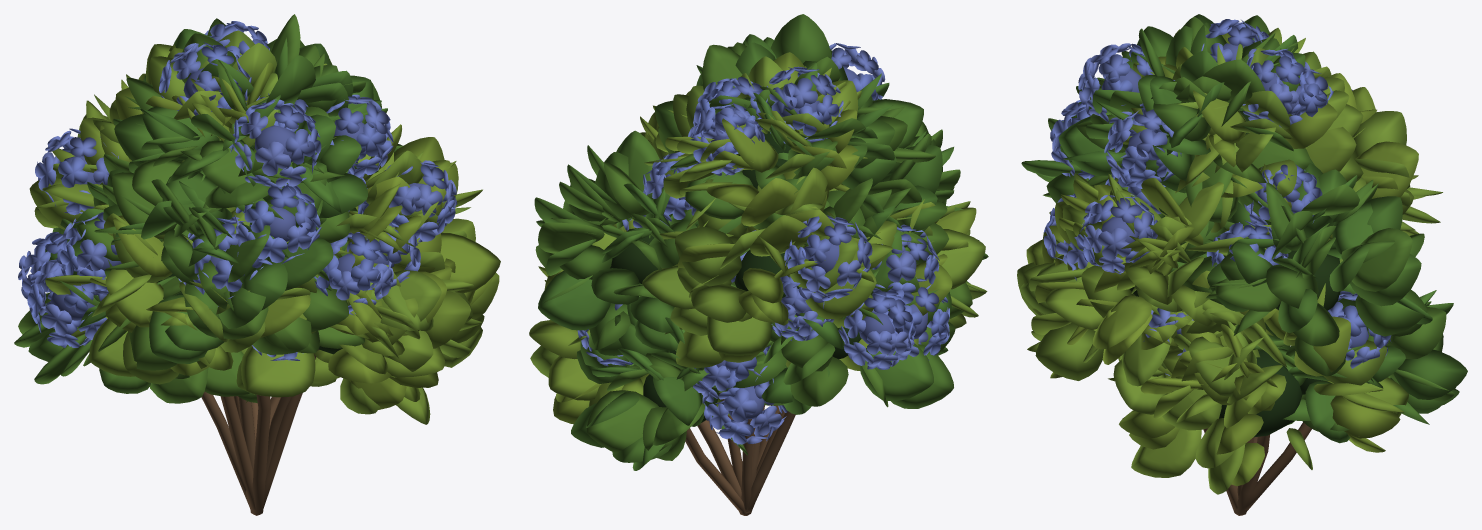
The model's file is hedge_hydrangea.glb.
3 renders of one model, left to right at view 1: azimuth 30°, elevation 25°; view 2: azimuth 150°, elevation 25°; view 3: azimuth 270°, elevation 25°, orthographic. The views are drawn at different scales.
Visible parts, largest first — view 1: Sammel Pflanze, Sammel Holz; view 2: Sammel Pflanze, Sammel Holz, Sammel Blatt; view 3: Sammel Pflanze, Sammel Blatt, Sammel Holz.
Part boxes in pixels (box(x1,y1,x2,y2)): Sammel Pflanze: box(14, 14, 500, 424); Sammel Holz: box(201, 349, 319, 515); Sammel Pflanze: box(529, 14, 988, 470); Sammel Holz: box(685, 392, 795, 515); Sammel Blatt: box(610, 131, 861, 422); Sammel Pflanze: box(1017, 14, 1467, 494); Sammel Blatt: box(1129, 110, 1340, 437); Sammel Holz: box(1203, 422, 1311, 515).
Size of the model in its own units: 1.08 by 1.16 by 0.985.
